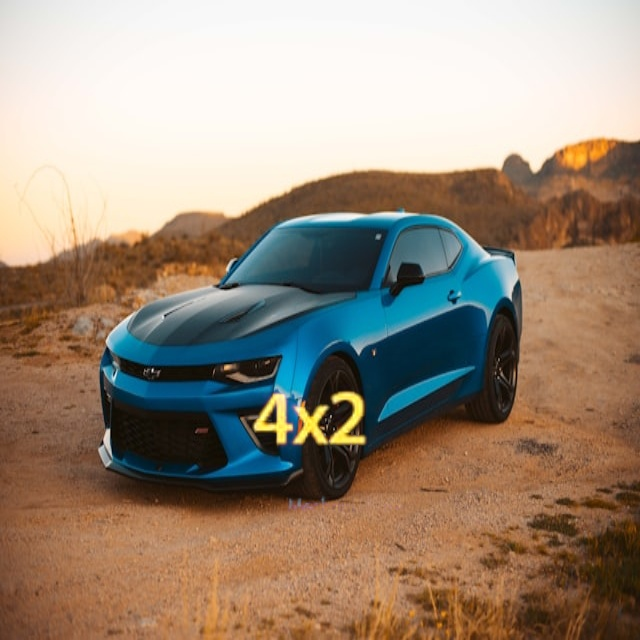symbol: (207, 318, 412, 523)
